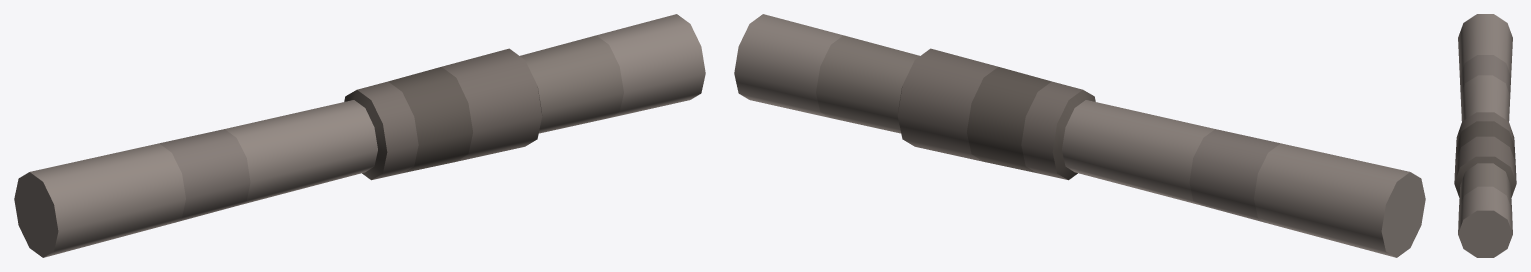
The model's file is factory-pipe.obj.
3 renders of one model, left to right at view 1: azimuth 30°, elevation 25°; view 2: azimuth 150°, elevation 25°; view 3: azimuth 270°, elevation 25°, orthographic. The views are drawn at different scales.
Visible parts, largest first — view 1: factory-pipe; view 2: factory-pipe; view 3: factory-pipe.
Part boxes in pixels (x1,y1,x2,y2): factory-pipe: [14, 14, 705, 257]; factory-pipe: [734, 14, 1425, 257]; factory-pipe: [1454, 14, 1516, 257].
Bounding box in the file's own units: 30.05 × 3.85 × 4.02.
1 material, 1 textured.
